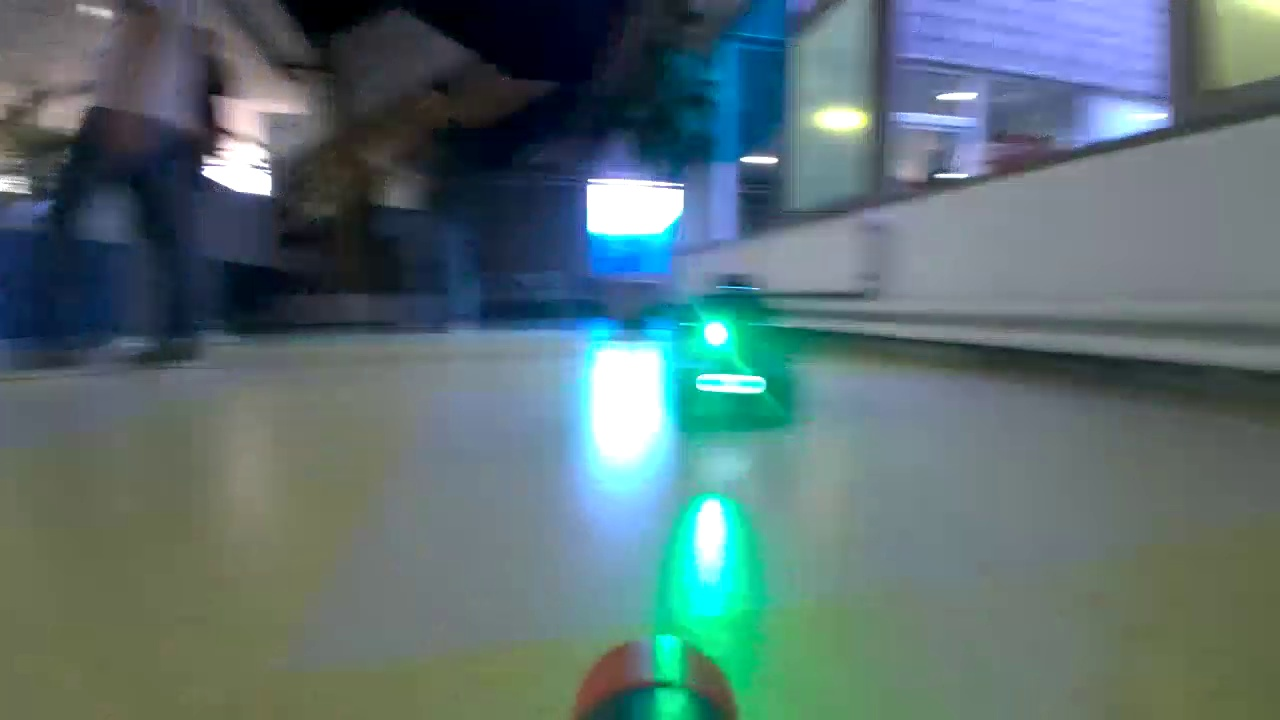robot: (672, 276, 794, 404)
